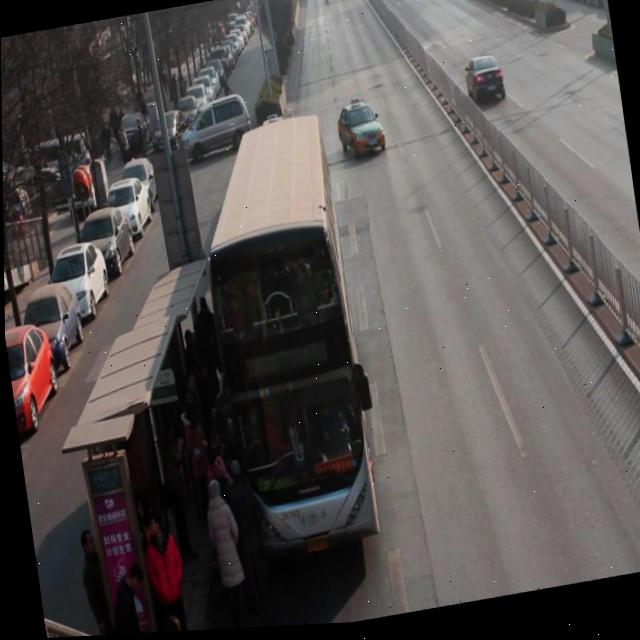car: (335, 104, 387, 165), (463, 58, 507, 113)
truck: (176, 95, 255, 169)
van: (187, 113, 377, 561)
